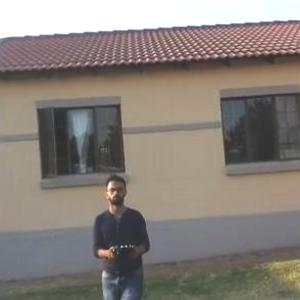follow: (89, 167, 156, 299)
